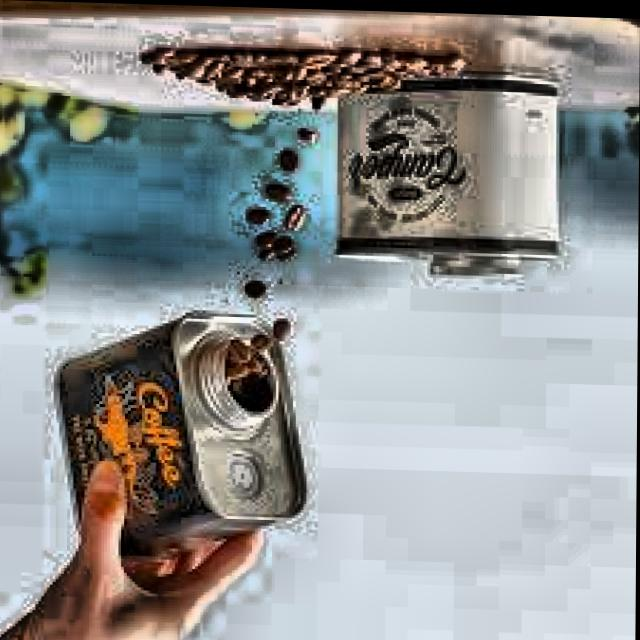can: (49, 298, 310, 575), (326, 57, 567, 286)
